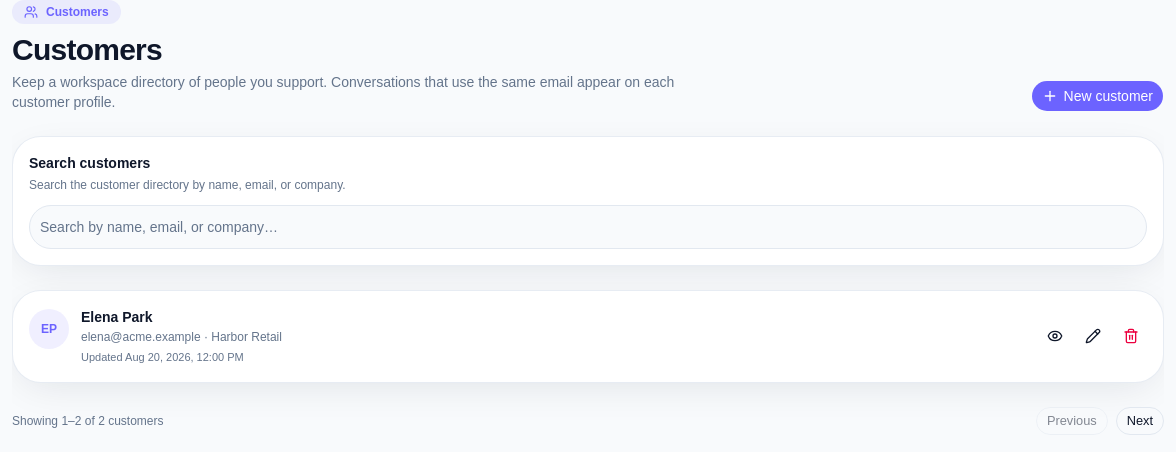
CustomersBoard › loads the next page of customers
The width and height of the screenshot is (1176, 452).
Expected: the text "Showing 1–2 of 2 customers" is shown, [12,412,164,428]
Expected: the text "Elena Park" is shown, [81,309,153,325]
What coordinates should you click on to do the following:
click the button "Next"
I would click on:
 (1140, 420)
Its box is [1116,406,1164,434].
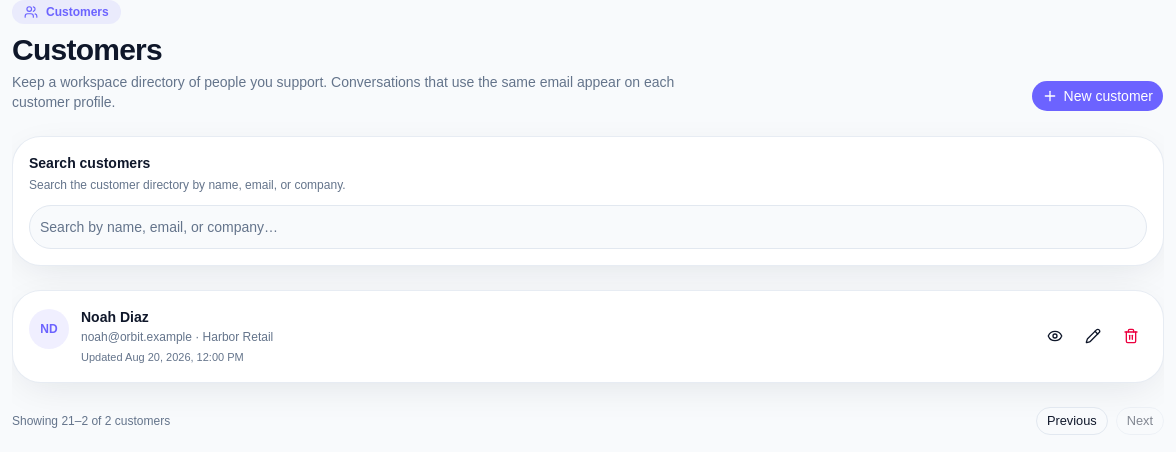
Result: the text "Noah Diaz" is shown at [81,309,149,325]
Result: the button "Elena Park" is gone
